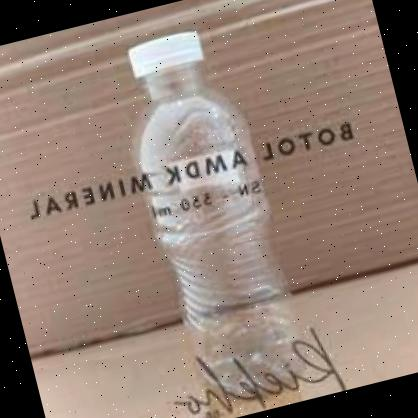bottle: (100, 15, 327, 418)
cap: (122, 27, 212, 88)
